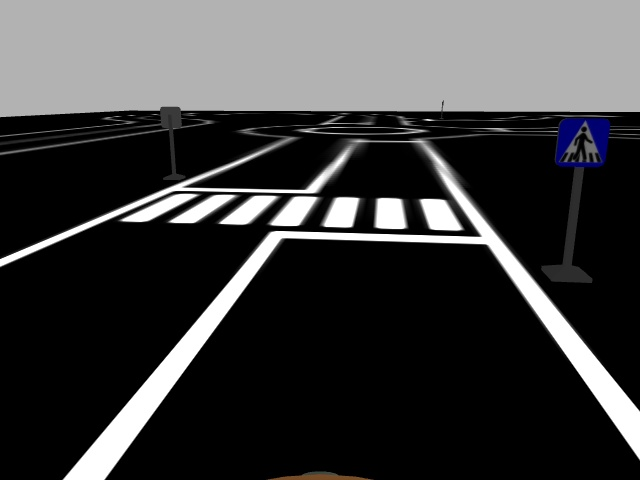crosswalk: (554, 115, 611, 170)
